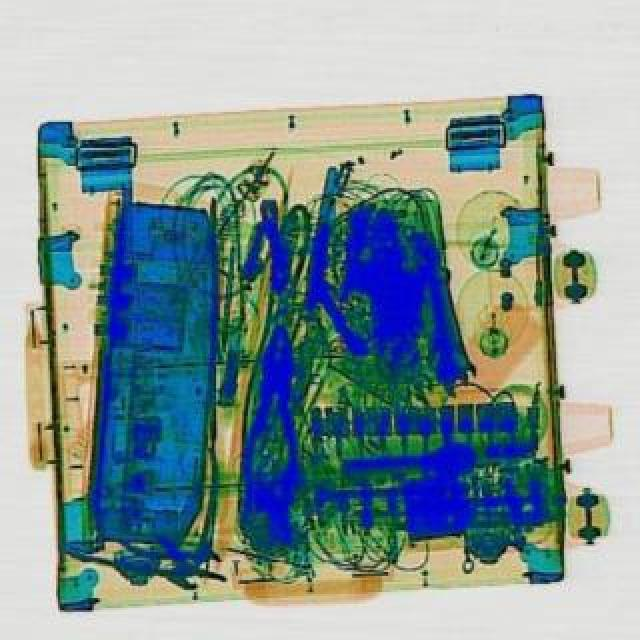scissors: (414, 270, 474, 398)
wrench: (98, 444, 262, 590), (234, 320, 306, 524)
